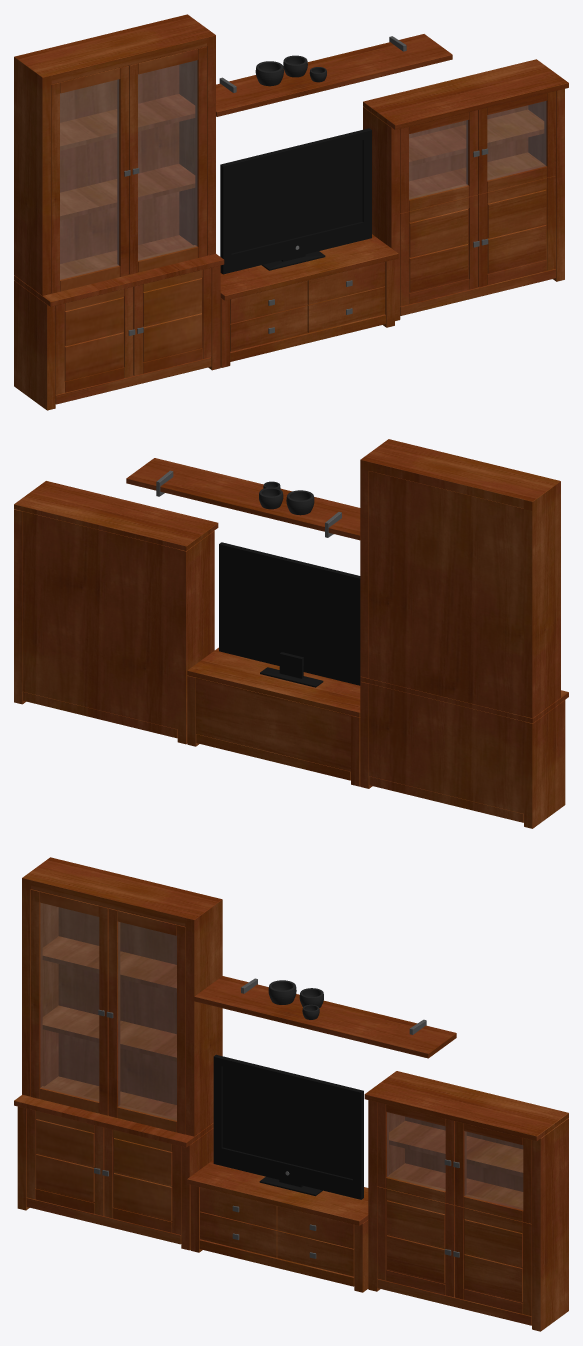
Rendered from contemp_living_room.obj.
3 renders of one model, top to bottom at view 1: azimuth 30°, elevation 25°; view 2: azimuth 150°, elevation 25°; view 3: azimuth 330°, elevation 25°, orthographic.
Parts seen in each view (by area): view 1: big_sideboard_Cube, sideboard_Cube.002, tv_Cube.018, closet_Cube.001, shelf_Cube.003, bowl1_Circle.002; view 2: big_sideboard_Cube, sideboard_Cube.002, tv_Cube.018, closet_Cube.001, shelf_Cube.003, bowl1_Circle.002; view 3: big_sideboard_Cube, sideboard_Cube.002, tv_Cube.018, closet_Cube.001, shelf_Cube.003, bowl1_Circle.002.
Boxes of the visible parts, x1=… form: big_sideboard_Cube: x1=14, y1=14, x2=224, y2=410; sideboard_Cube.002: x1=363, y1=59, x2=568, y2=320; tv_Cube.018: x1=220, y1=128, x2=371, y2=274; closet_Cube.001: x1=220, y1=234, x2=398, y2=367; shelf_Cube.003: x1=216, y1=34, x2=452, y2=116; bowl1_Circle.002: x1=255, y1=61, x2=283, y2=86; big_sideboard_Cube: x1=360, y1=439, x2=568, y2=828; sideboard_Cube.002: x1=14, y1=481, x2=218, y2=744; tv_Cube.018: x1=219, y1=542, x2=360, y2=687; closet_Cube.001: x1=187, y1=647, x2=360, y2=786; shelf_Cube.003: x1=126, y1=458, x2=360, y2=540; bowl1_Circle.002: x1=286, y1=490, x2=314, y2=515; big_sideboard_Cube: x1=14, y1=857, x2=222, y2=1250; sideboard_Cube.002: x1=364, y1=1071, x2=568, y2=1331; tv_Cube.018: x1=213, y1=1054, x2=363, y2=1199; closet_Cube.001: x1=187, y1=1160, x2=368, y2=1292; shelf_Cube.003: x1=194, y1=976, x2=456, y2=1058; bowl1_Circle.002: x1=268, y1=980, x2=296, y2=1004.
Size of the model in its own units: 331 by 199 by 40.37.
Materials: 8 (2 with a texture image).
